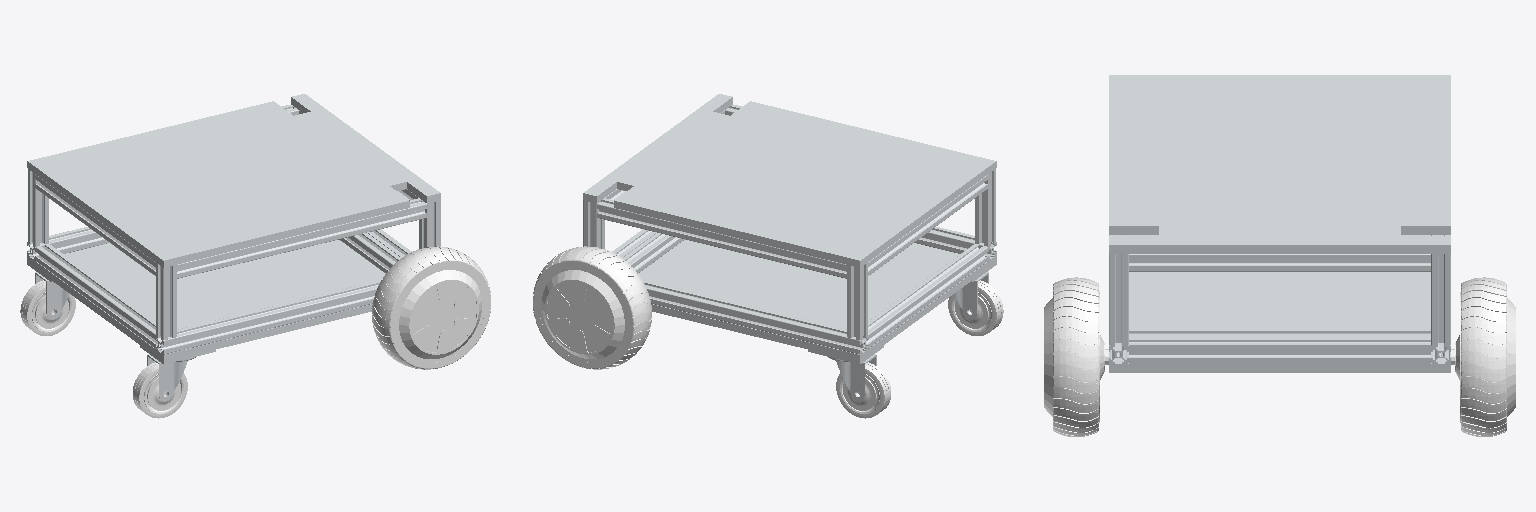
The robot description file, URDF, robot "blattoidea":
<?xml version="1.0" encoding="utf-8"?>
<!-- This URDF was automatically created by SolidWorks to URDF Exporter! Originally created by [author] ([email redacted]) 
     Commit Version: 1.5.1-0-g916b5db  Build Version: 1.5.7152.31018
     For more information, please see http://wiki.ros.org/sw_urdf_exporter -->
<robot
  name="blattoidea">
  <link
    name="base_link">
    <inertial>
      <origin
        xyz="0.00325619311123409 -2.23039142970567E-14 0.0692086370036087"
        rpy="0 0 0" />
      <mass
        value="8.79255713417749" />
      <inertia
        ixx="0.0734027658932192"
        ixy="-2.76280505697937E-16"
        ixz="-1.07846523034601E-16"
        iyy="0.102931710777646"
        iyz="-2.50856151514765E-15"
        izz="0.175786526057808" />
    </inertial>
    <visual>
      <origin
        xyz="0 0 0"
        rpy="0 0 0" />
      <geometry>
        <mesh
          filename="package://blattoidea/meshes/base_link.STL" />
      </geometry>
      <material
        name="">
        <color
          rgba="0.898039215686275 0.917647058823529 0.929411764705882 1" />
      </material>
    </visual>
    <collision>
      <origin
        xyz="0 0 0"
        rpy="0 0 0" />
      <geometry>
        <mesh
          filename="package://blattoidea/meshes/base_link.STL" />
      </geometry>
    </collision>
  </link>
  <link
    name="lw_Link">
    <inertial>
      <origin
        xyz="0.0808553485818156 -8.93504020771374E-14 -7.28085555834479E-06"
        rpy="0 0 0" />
      <mass
        value="0.977168759094327" />
      <inertia
        ixx="0.00275674165352189"
        ixy="-1.03502289371494E-14"
        ixz="-3.90983752277037E-07"
        iyy="0.00161704630212876"
        iyz="4.59411554425522E-16"
        izz="0.00161708194376393" />
    </inertial>
    <visual>
      <origin
        xyz="0 0 0"
        rpy="0 0 0" />
      <geometry>
        <mesh
          filename="package://blattoidea/meshes/lw_Link.STL" />
      </geometry>
      <material
        name="">
        <color
          rgba="1 1 1 1" />
      </material>
    </visual>
    <collision>
      <origin
        xyz="0 0 0"
        rpy="0 0 0" />
      <geometry>
        <mesh
          filename="package://blattoidea/meshes/lw_Link.STL" />
      </geometry>
    </collision>
  </link>
  <joint
    name="lw_joint"
    type="continuous">
    <origin
      xyz="0.17114 0.1226 0.002"
      rpy="-1.5708 0 1.5708" />
    <parent
      link="base_link" />
    <child
      link="lw_Link" />
    <axis
      xyz="1 0 0" />
  </joint>
  <link
    name="rw_Link">
    <inertial>
      <origin
        xyz="0.0808553485818126 -5.82923466441176E-14 -7.28085556619962E-06"
        rpy="0 0 0" />
      <mass
        value="0.977168759094327" />
      <inertia
        ixx="0.00275674165352189"
        ixy="-1.03504114825236E-14"
        ixz="-3.90983752276569E-07"
        iyy="0.00161704630212876"
        iyz="4.57646248429487E-16"
        izz="0.00161708194376393" />
    </inertial>
    <visual>
      <origin
        xyz="0 0 0"
        rpy="0 0 0" />
      <geometry>
        <mesh
          filename="package://blattoidea/meshes/rw_Link.STL" />
      </geometry>
      <material
        name="">
        <color
          rgba="1 1 1 1" />
      </material>
    </visual>
    <collision>
      <origin
        xyz="0 0 0"
        rpy="0 0 0" />
      <geometry>
        <mesh
          filename="package://blattoidea/meshes/rw_Link.STL" />
      </geometry>
    </collision>
  </link>
  <joint
    name="rw_joint"
    type="continuous">
    <origin
      xyz="0.17114 -0.1226 0.002"
      rpy="1.5708 0 -1.5708" />
    <parent
      link="base_link" />
    <child
      link="rw_Link" />
    <axis
      xyz="1 0 0" />
  </joint>
  <link
    name="rc_segment_Link">
    <inertial>
      <origin
        xyz="-0.00199999999999995 0.0507028605154133 -0.0223671012384332"
        rpy="0 0 0" />
      <mass
        value="0.0456806083099006" />
      <inertia
        ixx="1.69365480799051E-05"
        ixy="-2.61652032862409E-08"
        ixz="4.97343727280345E-07"
        iyy="2.84210040220917E-05"
        iyz="8.69198280165372E-07"
        izz="1.19451595992085E-05" />
    </inertial>
    <visual>
      <origin
        xyz="0 0 0"
        rpy="0 0 0" />
      <geometry>
        <mesh
          filename="package://blattoidea/meshes/rc_segment_Link.STL" />
      </geometry>
      <material
        name="">
        <color
          rgba="0.898039215686275 0.917647058823529 0.929411764705882 1" />
      </material>
    </visual>
    <collision>
      <origin
        xyz="0 0 0"
        rpy="0 0 0" />
      <geometry>
        <mesh
          filename="package://blattoidea/meshes/rc_segment_Link.STL" />
      </geometry>
    </collision>
  </link>
  <joint
    name="rc_segment_joint"
    type="fixed">
    <origin
      xyz="-0.13468 -0.13557 -0.053"
      rpy="1.5182 0 1.6684" />
    <parent
      link="base_link" />
    <child
      link="rc_segment_Link" />
    <axis
      xyz="0 0 0" />
  </joint>
  <link
    name="r_caster_Link">
    <inertial>
      <origin
        xyz="-1.88672009127089E-08 0.0301165962341548 0.0154473114257098"
        rpy="0 0 0" />
      <mass
        value="0.0264605949467884" />
      <inertia
        ixx="1.12179776898766E-05"
        ixy="3.2755877336865E-12"
        ixz="-1.14314616853686E-12"
        iyy="9.11782185184723E-06"
        iyz="2.51887439877833E-06"
        izz="1.08616620506511E-05" />
    </inertial>
    <visual>
      <origin
        xyz="0 0 0"
        rpy="0 0 0" />
      <geometry>
        <mesh
          filename="package://blattoidea/meshes/r_caster_Link.STL" />
      </geometry>
      <material
        name="">
        <color
          rgba="0.898039215686275 0.917647058823529 0.929411764705882 1" />
      </material>
    </visual>
    <collision>
      <origin
        xyz="0 0 0"
        rpy="0 0 0" />
      <geometry>
        <mesh
          filename="package://blattoidea/meshes/r_caster_Link.STL" />
      </geometry>
    </collision>
  </link>
  <joint
    name="r_caster_joint"
    type="continuous">
    <origin
      xyz="-0.002 0.0013134 -0.024965"
      rpy="3.0362 0.097478 3.1364" />
    <parent
      link="rc_segment_Link" />
    <child
      link="r_caster_Link" />
    <axis
      xyz="0 0.99862 0.052537" />
  </joint>
  <link
    name="rc_wheel_Link">
    <inertial>
      <origin
        xyz="1.85407245112401E-14 -3.22103455019374E-14 7.27196081129478E-15"
        rpy="0 0 0" />
      <mass
        value="0.0498995656286701" />
      <inertia
        ixx="3.54082696398039E-05"
        ixy="-4.40748213728033E-23"
        ixz="-3.9926883710541E-23"
        iyy="1.84620775423207E-05"
        iyz="-1.65602536623508E-21"
        izz="1.84620775423207E-05" />
    </inertial>
    <visual>
      <origin
        xyz="0 0 0"
        rpy="0 0 0" />
      <geometry>
        <mesh
          filename="package://blattoidea/meshes/rc_wheel_Link.STL" />
      </geometry>
      <material
        name="">
        <color
          rgba="1 1 1 1" />
      </material>
    </visual>
    <collision>
      <origin
        xyz="0 0 0"
        rpy="0 0 0" />
      <geometry>
        <mesh
          filename="package://blattoidea/meshes/rc_wheel_Link.STL" />
      </geometry>
    </collision>
  </link>
  <joint
    name="rc_wheel_joint"
    type="continuous">
    <origin
      xyz="0 -0.0013134 0.024965"
      rpy="-0.052561 0 3.1416" />
    <parent
      link="r_caster_Link" />
    <child
      link="rc_wheel_Link" />
    <axis
      xyz="1 0 0" />
  </joint>
  <link
    name="lc_segment_Link">
    <inertial>
      <origin
        xyz="-0.00199999999996911 0.0507028605154356 -0.0223671012384291"
        rpy="0 0 0" />
      <mass
        value="0.0456806083099005" />
      <inertia
        ixx="1.69365480799051E-05"
        ixy="-2.61652032862427E-08"
        ixz="4.97343727280348E-07"
        iyy="2.84210040220916E-05"
        iyz="8.69198280165364E-07"
        izz="1.19451595992085E-05" />
    </inertial>
    <visual>
      <origin
        xyz="0 0 0"
        rpy="0 0 0" />
      <geometry>
        <mesh
          filename="package://blattoidea/meshes/lc_segment_Link.STL" />
      </geometry>
      <material
        name="">
        <color
          rgba="0.898039215686275 0.917647058823529 0.929411764705882 1" />
      </material>
    </visual>
    <collision>
      <origin
        xyz="0 0 0"
        rpy="0 0 0" />
      <geometry>
        <mesh
          filename="package://blattoidea/meshes/lc_segment_Link.STL" />
      </geometry>
    </collision>
  </link>
  <joint
    name="lc_segment_joint"
    type="fixed">
    <origin
      xyz="-0.18405 0.13557 -0.053"
      rpy="1.5182 0 -1.4732" />
    <parent
      link="base_link" />
    <child
      link="lc_segment_Link" />
    <axis
      xyz="0 0 0" />
  </joint>
  <link
    name="l_caster_Link">
    <inertial>
      <origin
        xyz="-1.88672001633083E-08 0.030116596234179 0.0154473114256789"
        rpy="0 0 0" />
      <mass
        value="0.0264605949467887" />
      <inertia
        ixx="1.12179776898766E-05"
        ixy="3.27558774750597E-12"
        ixz="-1.14314612088057E-12"
        iyy="9.11782185184734E-06"
        iyz="2.51887439877833E-06"
        izz="1.0861662050651E-05" />
    </inertial>
    <visual>
      <origin
        xyz="0 0 0"
        rpy="0 0 0" />
      <geometry>
        <mesh
          filename="package://blattoidea/meshes/l_caster_Link.STL" />
      </geometry>
      <material
        name="">
        <color
          rgba="0.898039215686275 0.917647058823529 0.929411764705882 1" />
      </material>
    </visual>
    <collision>
      <origin
        xyz="0 0 0"
        rpy="0 0 0" />
      <geometry>
        <mesh
          filename="package://blattoidea/meshes/l_caster_Link.STL" />
      </geometry>
    </collision>
  </link>
  <joint
    name="l_caster_joint"
    type="continuous">
    <origin
      xyz="-0.002 0.0013134 -0.024965"
      rpy="0.00025094 -0.097478 -0.0051446" />
    <parent
      link="lc_segment_Link" />
    <child
      link="l_caster_Link" />
    <axis
      xyz="0 0.99862 0.052537" />
  </joint>
  <link
    name="lc_wheel_Link">
    <inertial>
      <origin
        xyz="1.79301018476963E-14 1.6826817716975E-14 -3.02535774210355E-15"
        rpy="0 0 0" />
      <mass
        value="0.0498995656286702" />
      <inertia
        ixx="3.5408269639804E-05"
        ixy="5.18772505873196E-22"
        ixz="-9.91489083238259E-22"
        iyy="1.84620775423207E-05"
        iyz="2.30363884891597E-21"
        izz="1.84620775423207E-05" />
    </inertial>
    <visual>
      <origin
        xyz="0 0 0"
        rpy="0 0 0" />
      <geometry>
        <mesh
          filename="package://blattoidea/meshes/lc_wheel_Link.STL" />
      </geometry>
      <material
        name="">
        <color
          rgba="1 1 1 1" />
      </material>
    </visual>
    <collision>
      <origin
        xyz="0 0 0"
        rpy="0 0 0" />
      <geometry>
        <mesh
          filename="package://blattoidea/meshes/lc_wheel_Link.STL" />
      </geometry>
    </collision>
  </link>
  <joint
    name="lc_wheel_joint"
    type="continuous">
    <origin
      xyz="0 -0.0013134 0.024965"
      rpy="3.089 0 3.1416" />
    <parent
      link="l_caster_Link" />
    <child
      link="lc_wheel_Link" />
    <axis
      xyz="-1 0 0" />
  </joint>
</robot>

--- Render facts (derived) ---
3 views of the same robot in one strip: view 1: azimuth 30°, elevation 25°; view 2: azimuth 150°, elevation 25°; view 3: azimuth 270°, elevation 25° (orthographic).
Robot: blattoidea — 9 links, 8 joints (6 continuous, 2 fixed); root link base_link; default pose: every joint at zero.
Links seen in each view (by area): view 1: base_link, rw_Link, rc_wheel_Link, lc_wheel_Link, r_caster_Link, l_caster_Link; view 2: base_link, lw_Link, lc_wheel_Link, rc_wheel_Link, l_caster_Link, r_caster_Link; view 3: base_link, lw_Link, rw_Link.
Boxes of the visible links, x1,y1,x2,y2 form: base_link: (27, 94, 440, 361); rw_Link: (372, 246, 491, 369); rc_wheel_Link: (133, 362, 187, 418); lc_wheel_Link: (20, 280, 75, 335); r_caster_Link: (147, 354, 188, 401); l_caster_Link: (35, 272, 69, 319); base_link: (583, 94, 996, 361); lw_Link: (533, 246, 651, 369); lc_wheel_Link: (836, 362, 890, 418); rc_wheel_Link: (948, 280, 1003, 335); l_caster_Link: (835, 354, 876, 401); r_caster_Link: (954, 272, 988, 319); base_link: (1109, 75, 1450, 372); lw_Link: (1451, 277, 1515, 436); rw_Link: (1044, 277, 1108, 436).
Bounding box of the posed robot: 0.4699 × 0.4672 × 0.2281 m (x, y, z).
9 mesh visuals loaded from 9 distinct referenced files (9 binary STL).